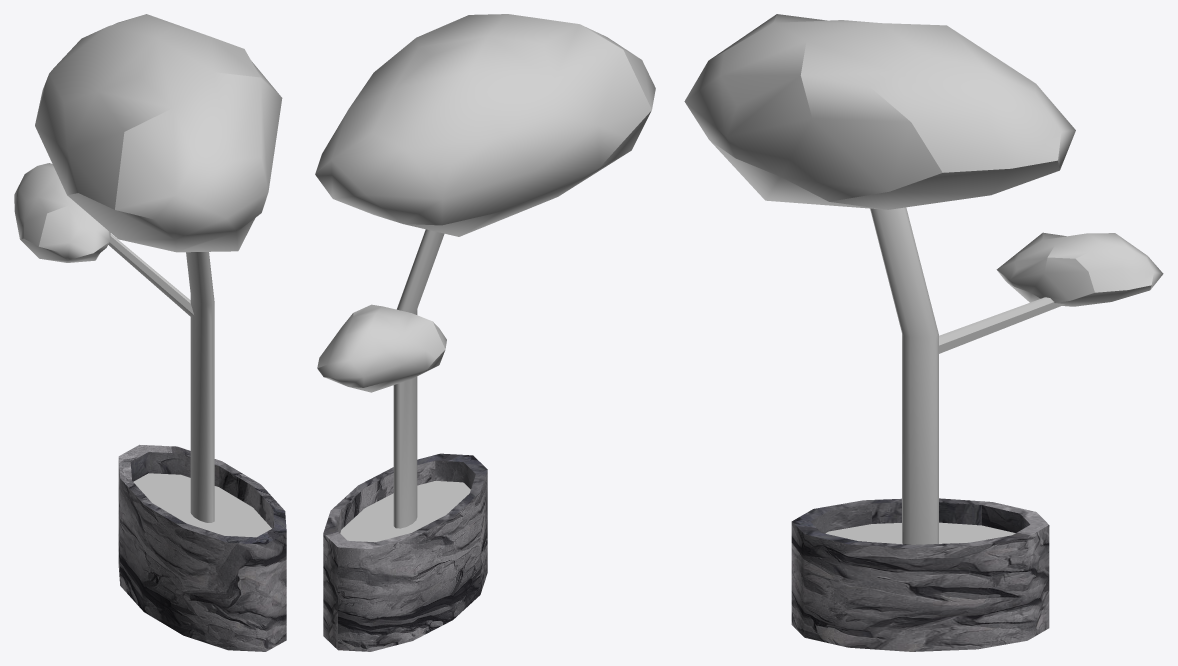
Rendered from Planta5.obj.
The picture shows the model from 3 angles, left to right: view 1: azimuth 30°, elevation 25°; view 2: azimuth 150°, elevation 25°; view 3: azimuth 270°, elevation 25°; orthographic projection. The views are drawn at different scales.
Visible parts, largest first — view 1: Planta5:Mesh; view 2: Planta5:Mesh; view 3: Planta5:Mesh.
Boxes of the visible parts, x1,y1,x2,y2 form: Planta5:Mesh: (14, 14, 286, 651); Planta5:Mesh: (315, 14, 655, 651); Planta5:Mesh: (684, 14, 1163, 651).
Size of the model in its own units: 0.2469 by 0.6055 by 0.4594.
